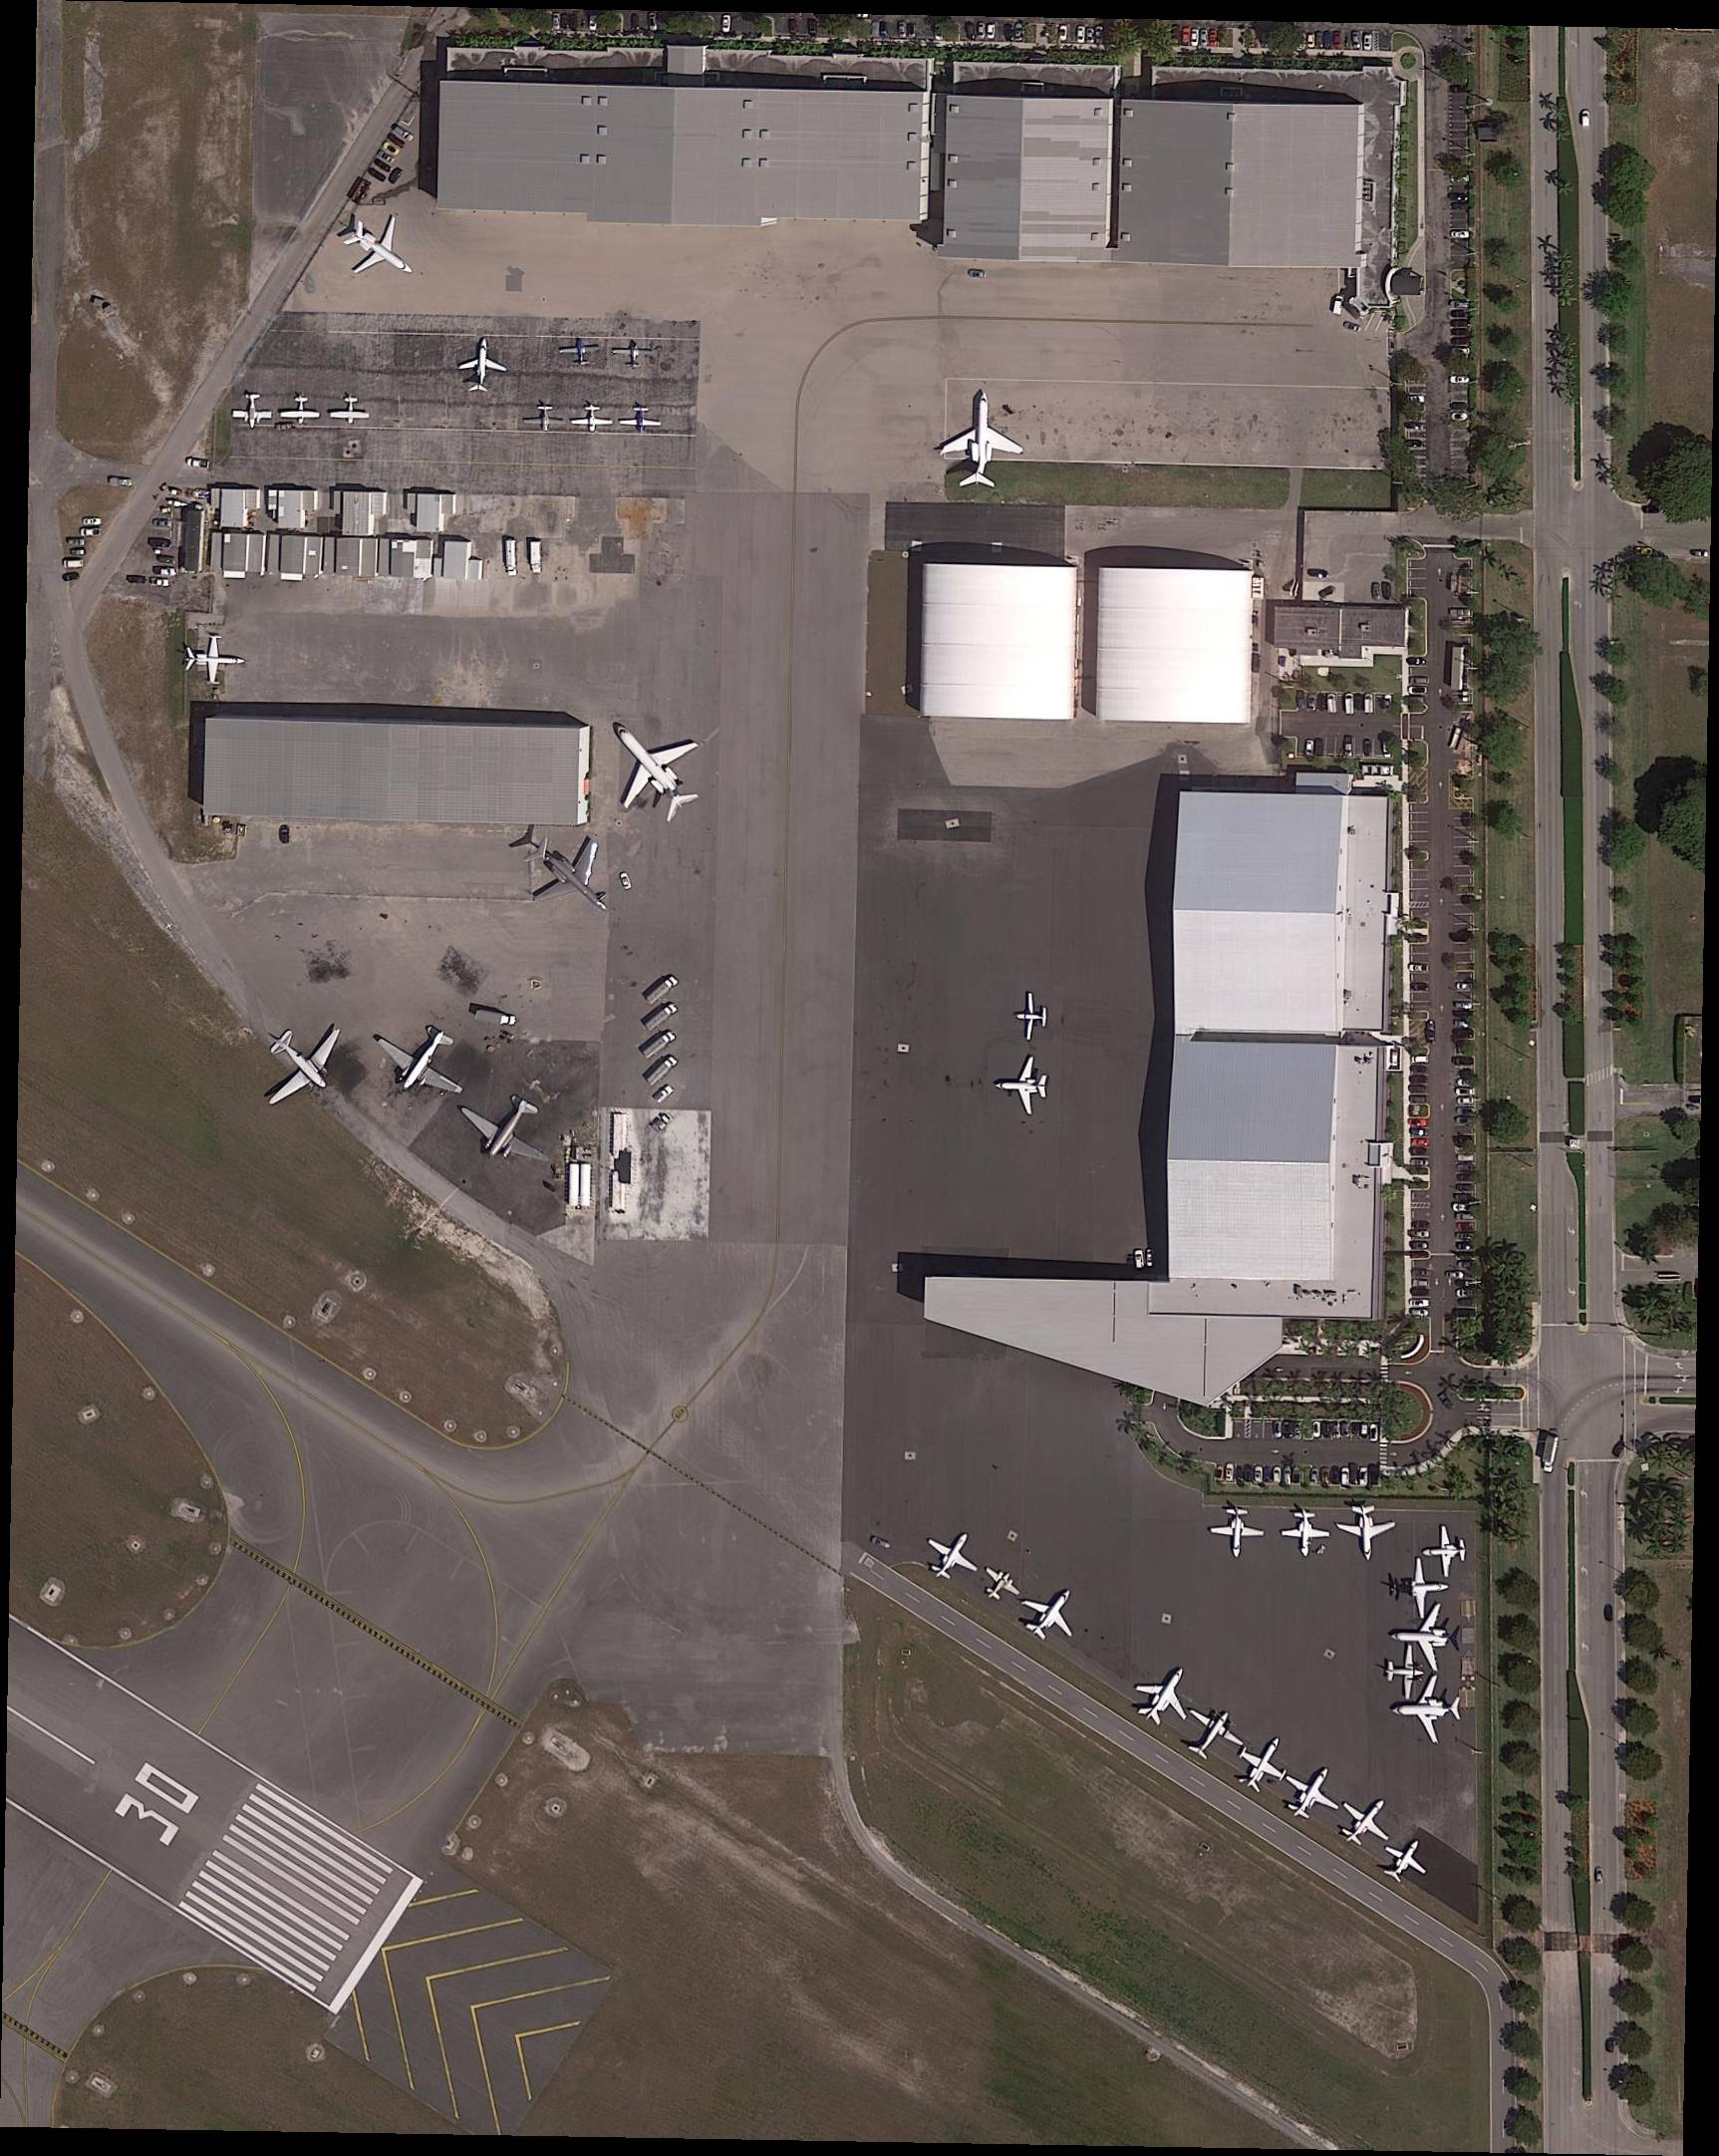large vehicle: (646, 1054, 679, 1088), (644, 1002, 679, 1033), (642, 1030, 677, 1061), (646, 975, 681, 1007), (474, 1007, 516, 1026), (1540, 1435, 1561, 1474)
plane: (582, 695, 724, 839), (507, 816, 638, 940), (240, 1003, 360, 1124), (361, 1005, 484, 1119), (447, 1074, 568, 1186), (332, 200, 432, 298), (940, 391, 1026, 488), (1123, 1653, 1207, 1738), (1010, 1570, 1093, 1654), (1272, 1753, 1354, 1835), (1173, 1693, 1256, 1775), (1326, 1781, 1407, 1865), (912, 1519, 991, 1595), (1226, 1726, 1300, 1802), (1391, 1603, 1461, 1675), (1391, 1675, 1461, 1746), (1373, 1830, 1438, 1895), (1335, 1503, 1396, 1563), (993, 1056, 1051, 1119), (1393, 1558, 1451, 1619), (184, 633, 247, 688), (1209, 1505, 1266, 1561), (458, 339, 509, 395), (1279, 1509, 1333, 1560), (975, 1561, 1026, 1610), (1421, 1524, 1466, 1577), (1386, 1644, 1426, 1702), (1014, 993, 1049, 1040), (235, 393, 274, 430), (619, 405, 663, 435), (572, 405, 614, 435), (282, 395, 321, 426), (330, 396, 370, 426), (560, 339, 602, 367), (523, 405, 567, 432), (612, 342, 654, 368)
